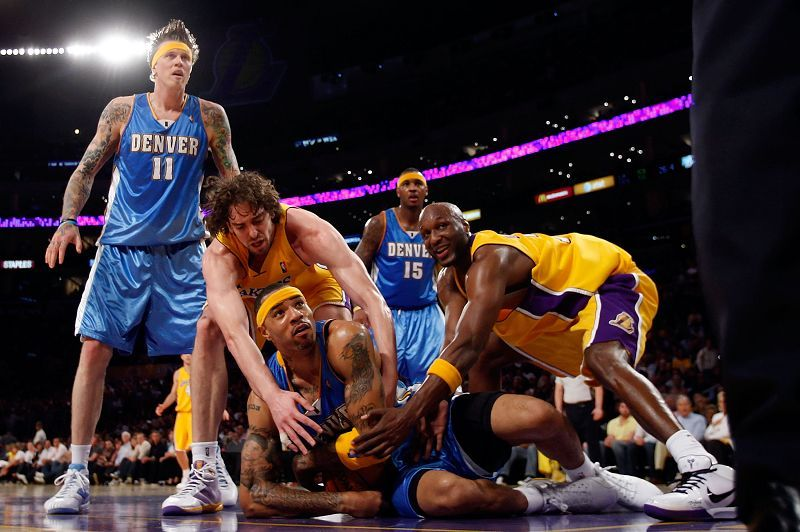10+: (3, 3, 795, 525)
down: (238, 284, 661, 524)
